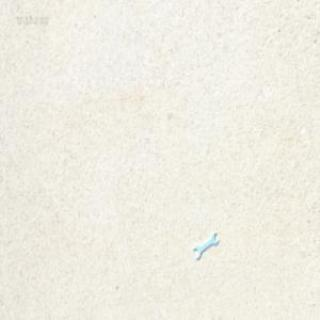Wrenchtrack_idkeyframe: (192, 228, 218, 256)
